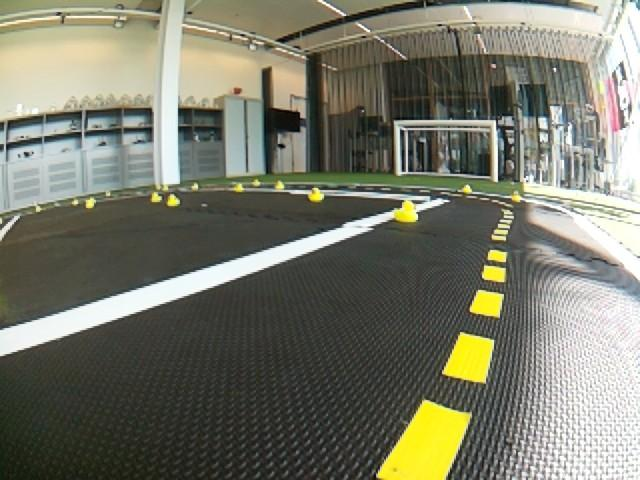Duckies: (394, 200, 420, 223), (307, 188, 324, 202), (167, 194, 181, 206), (510, 190, 522, 201), (232, 184, 245, 193), (151, 192, 162, 202), (461, 185, 473, 194), (85, 198, 95, 208), (275, 181, 285, 190), (35, 205, 43, 213), (252, 179, 260, 186), (155, 182, 162, 190), (105, 189, 111, 197), (192, 183, 198, 190), (163, 184, 169, 191), (73, 200, 79, 205)
